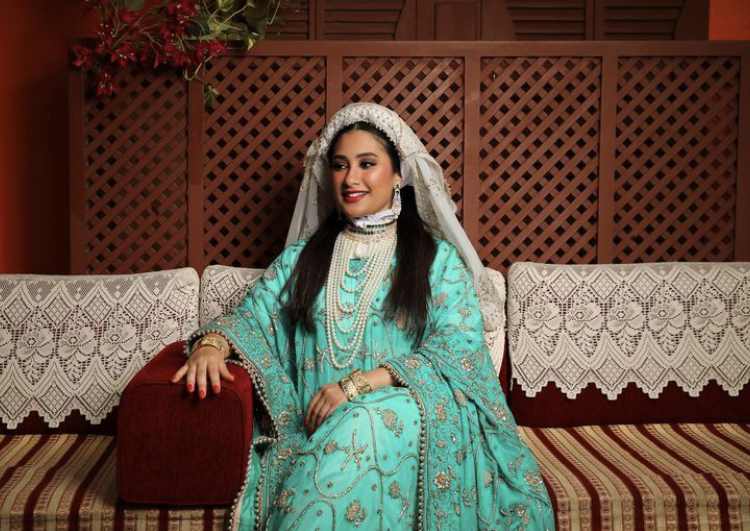Saudi_Founding_Day: (171, 94, 558, 531)
